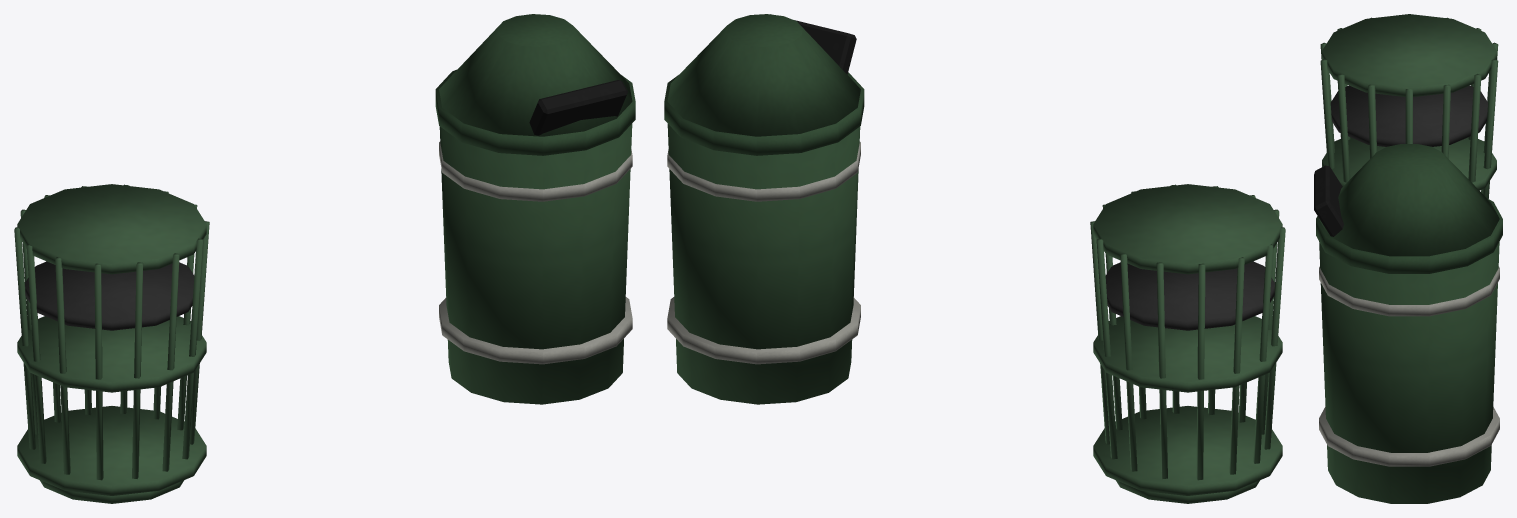
The model's file is trash_can.glb.
3 views of the same model, side by side, from view 1: azimuth 30°, elevation 25°; view 2: azimuth 150°, elevation 25°; view 3: azimuth 270°, elevation 25° (orthographic). The views are drawn at different scales.
Parts seen in each view (by area): view 1: trash_can_v2, trash_can_v1; view 2: trash_can_v2, trash_can_v1; view 3: trash_can_v2, trash_can_v1.
Part boxes in pixels (x1,y1,x2,y2): trash_can_v2: (435, 14, 635, 404); trash_can_v1: (14, 184, 209, 503); trash_can_v2: (664, 14, 864, 404); trash_can_v1: (1090, 184, 1285, 503); trash_can_v2: (1314, 144, 1502, 503); trash_can_v1: (1320, 14, 1498, 198).
Bounding box in the file's own units: 2.1 × 1.14 × 0.626.
2 materials, 2 textured.
